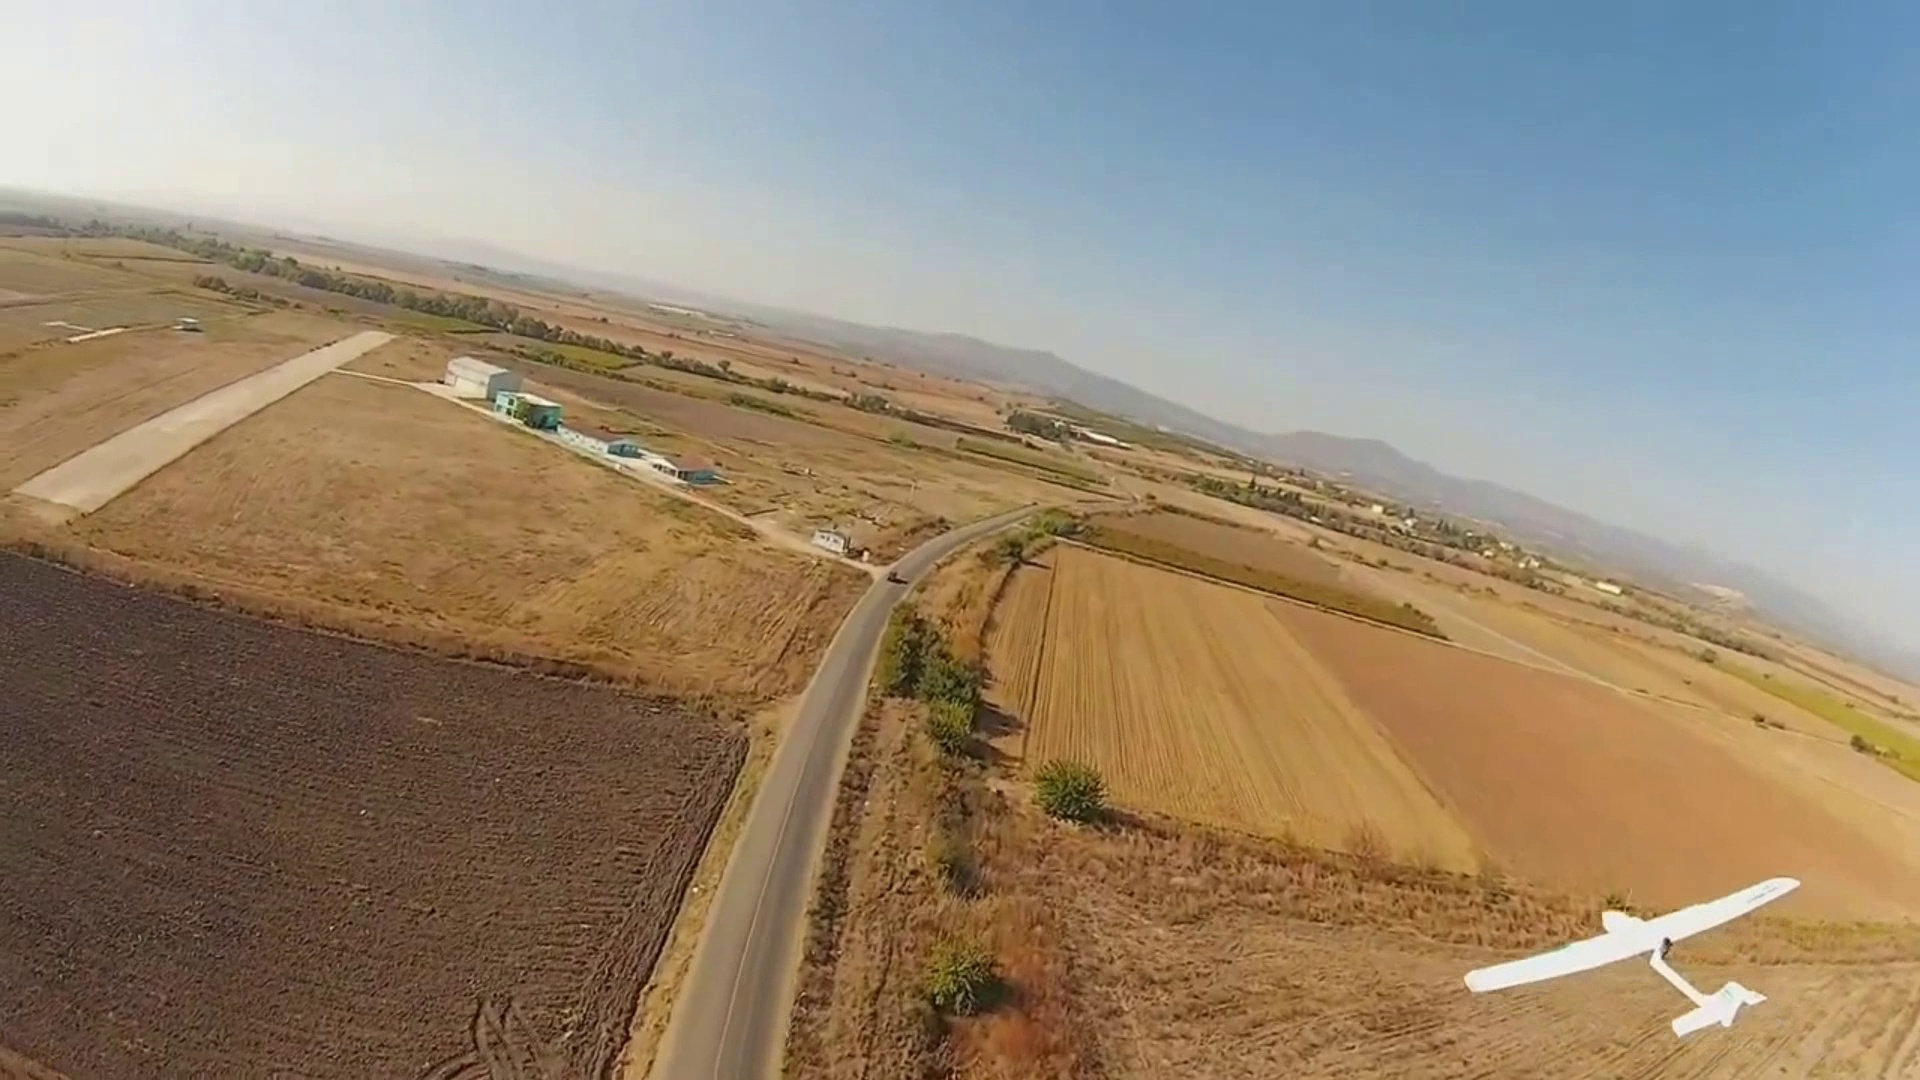airplane: (1462, 874, 1801, 1044)
